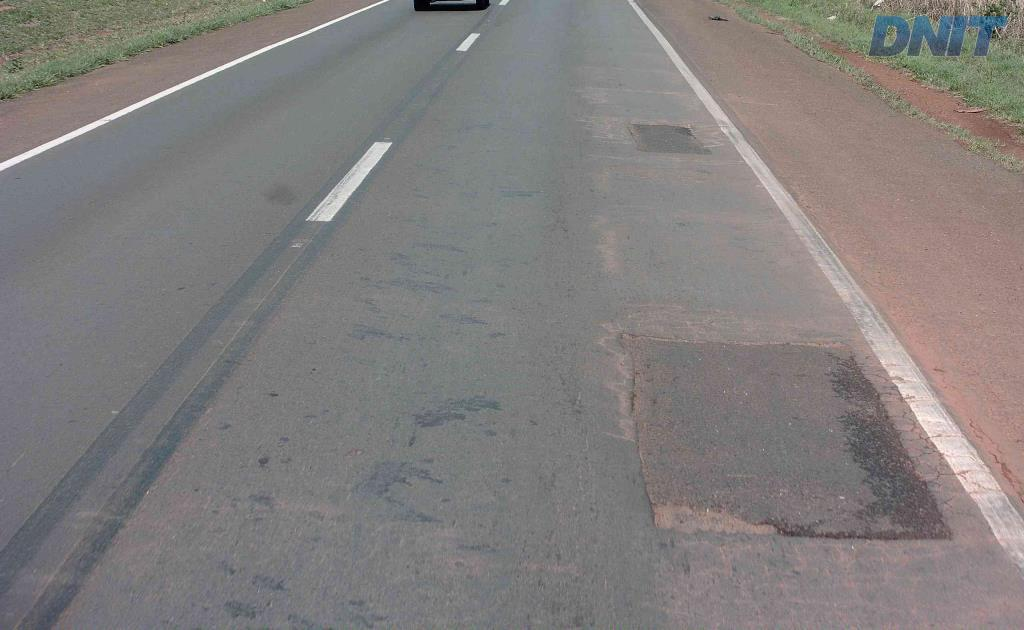pothole: (635, 490, 795, 544)
